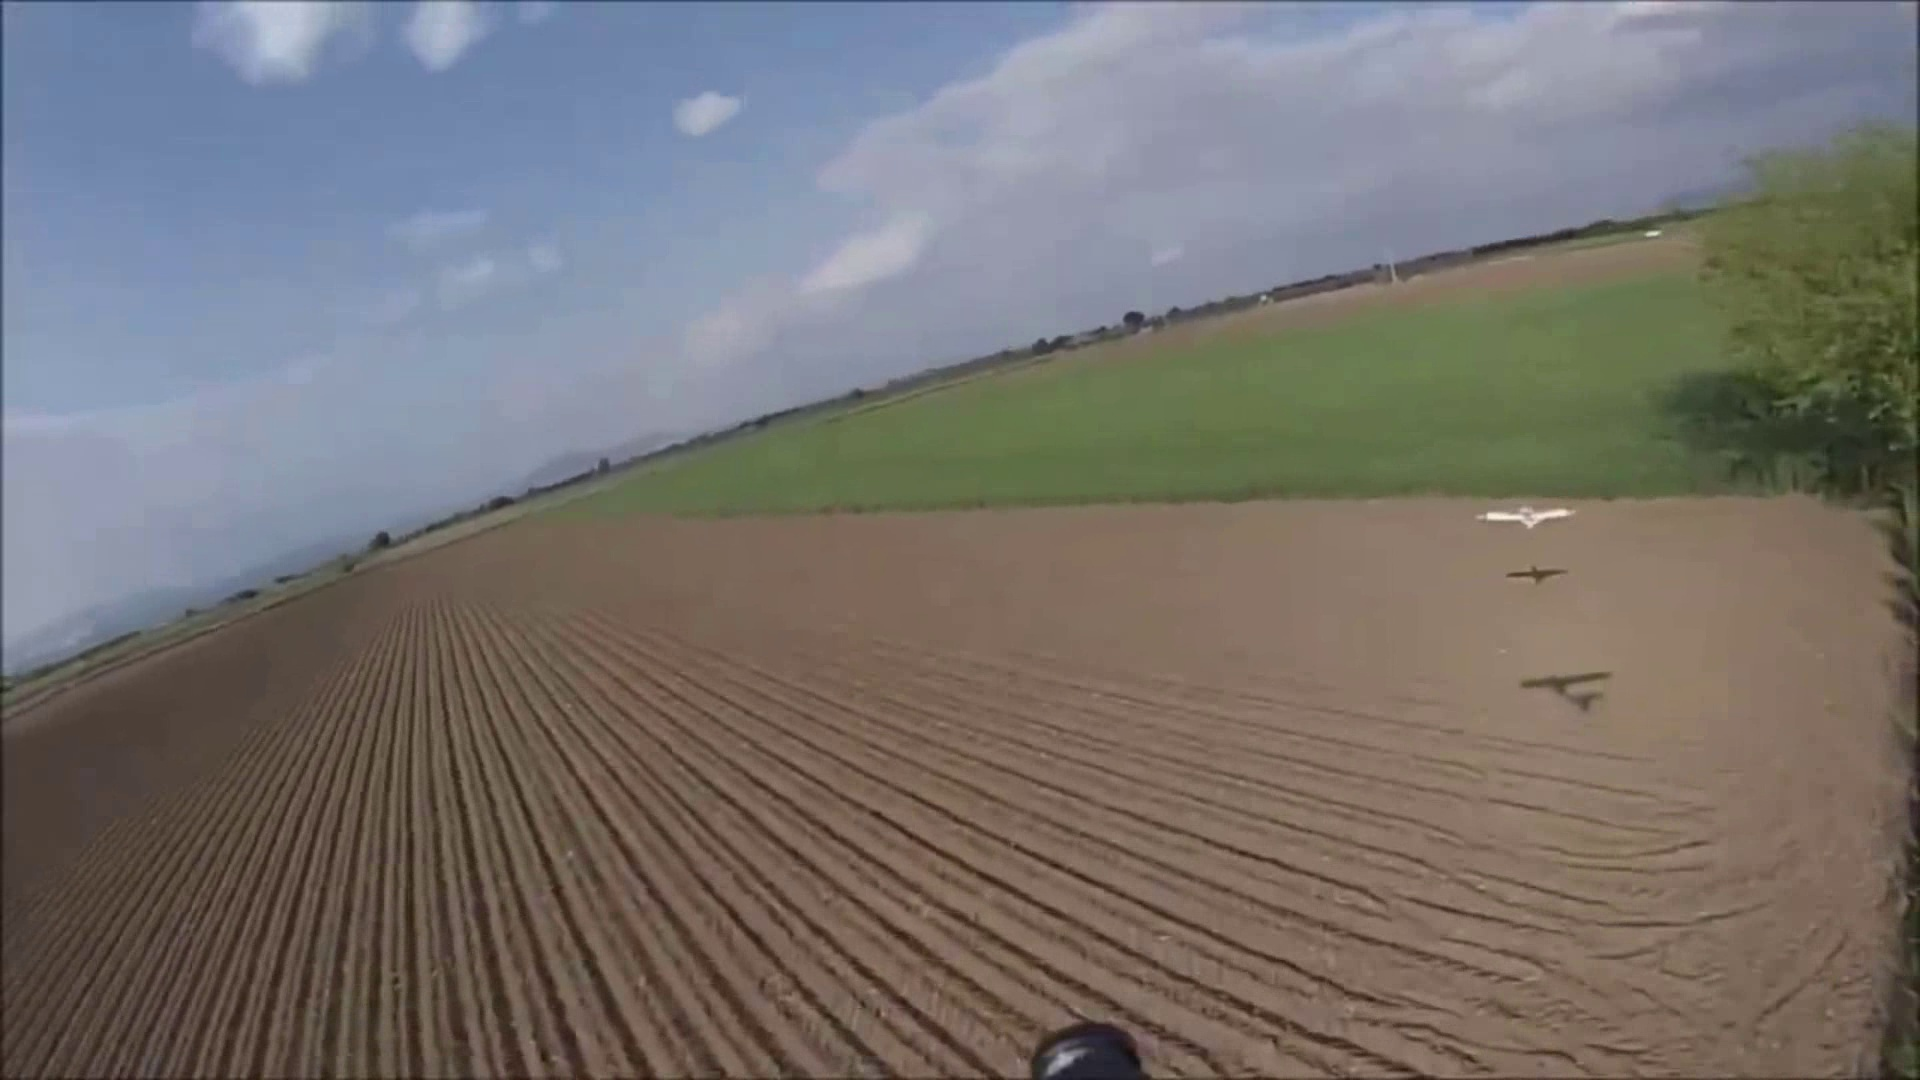airplane: (1505, 567, 1567, 582)
